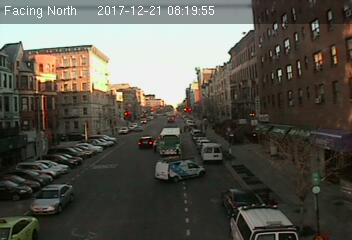bus: (158, 128, 181, 155)
car: (27, 184, 74, 214), (136, 135, 154, 149)
police: (223, 199, 300, 240)
truck: (201, 144, 223, 163)
